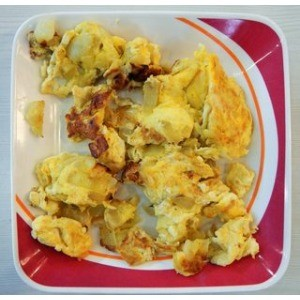egg_brain food: (101, 115, 207, 217)
